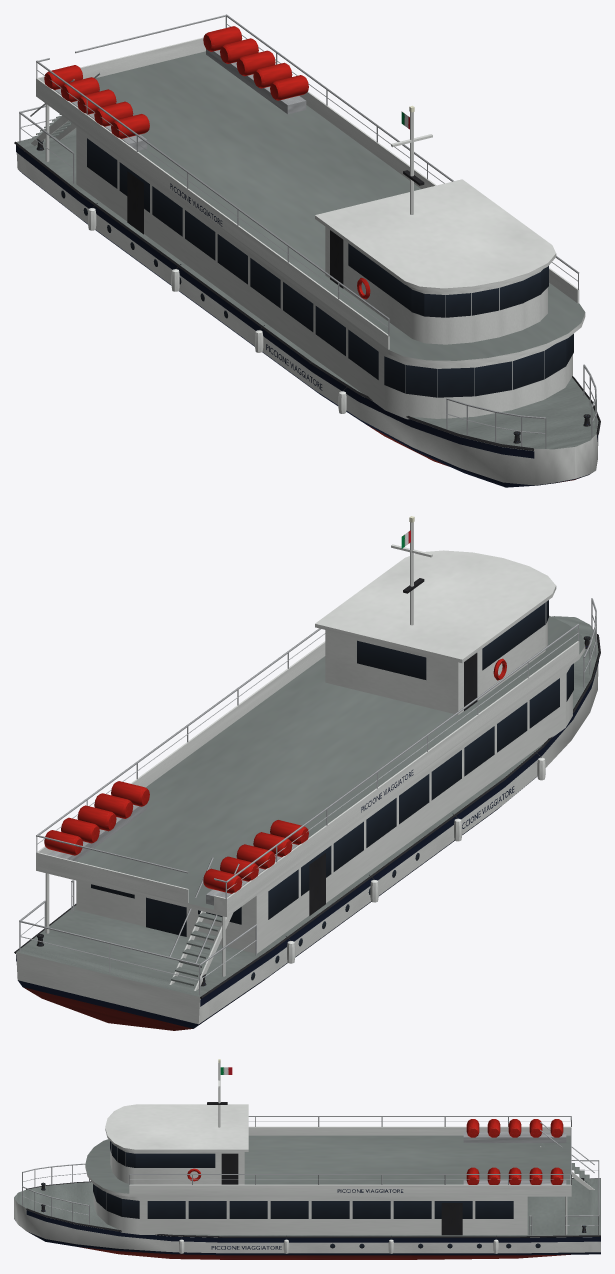
The model's file is SM_Morin_Traghetto_v2.fbx.
The picture shows the model from 3 angles, top to bottom: view 1: azimuth 30°, elevation 25°; view 2: azimuth 150°, elevation 25°; view 3: azimuth 270°, elevation 25°; orthographic projection. The views are drawn at different scales.
Parts seen in each view (by area): view 1: SM_Morin_Traghetto_v2; view 2: SM_Morin_Traghetto_v2; view 3: SM_Morin_Traghetto_v2.
Part boxes in pixels (x1,y1,x2,y2): SM_Morin_Traghetto_v2: (14, 14, 600, 487); SM_Morin_Traghetto_v2: (14, 516, 600, 1030); SM_Morin_Traghetto_v2: (14, 1059, 600, 1259).
Size of what is drawn, in the model's own units: 714 by 2800 by 1012.
Materials: 1 (1 with a texture image).
